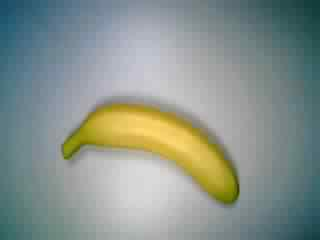banana: (60, 96, 245, 213)
